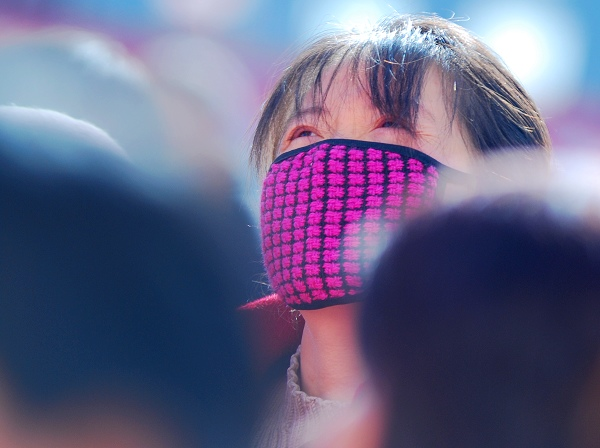face_mask: (263, 57, 463, 300)
